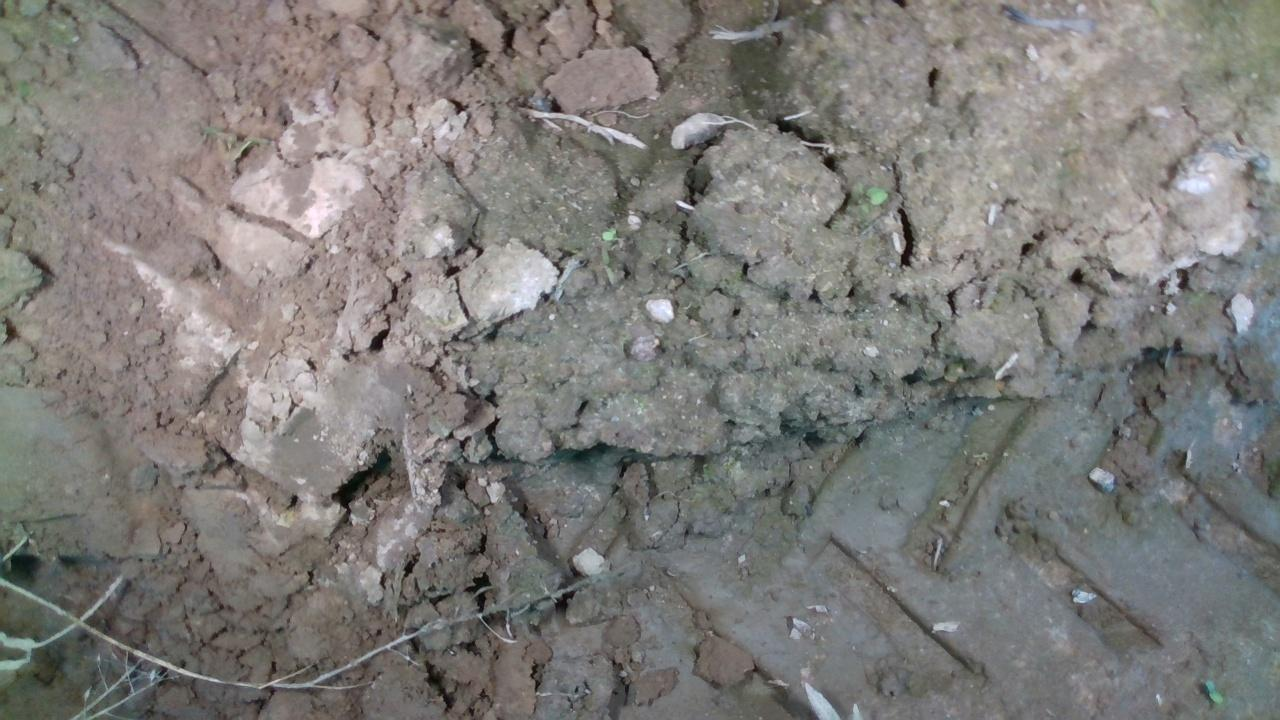weed: (857, 185, 892, 207)
